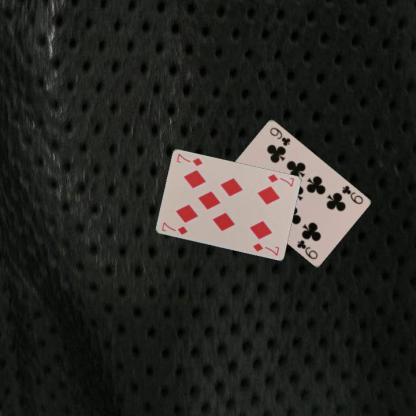7d: (265, 172, 295, 188), (159, 220, 188, 236)
9c: (339, 182, 364, 206)
